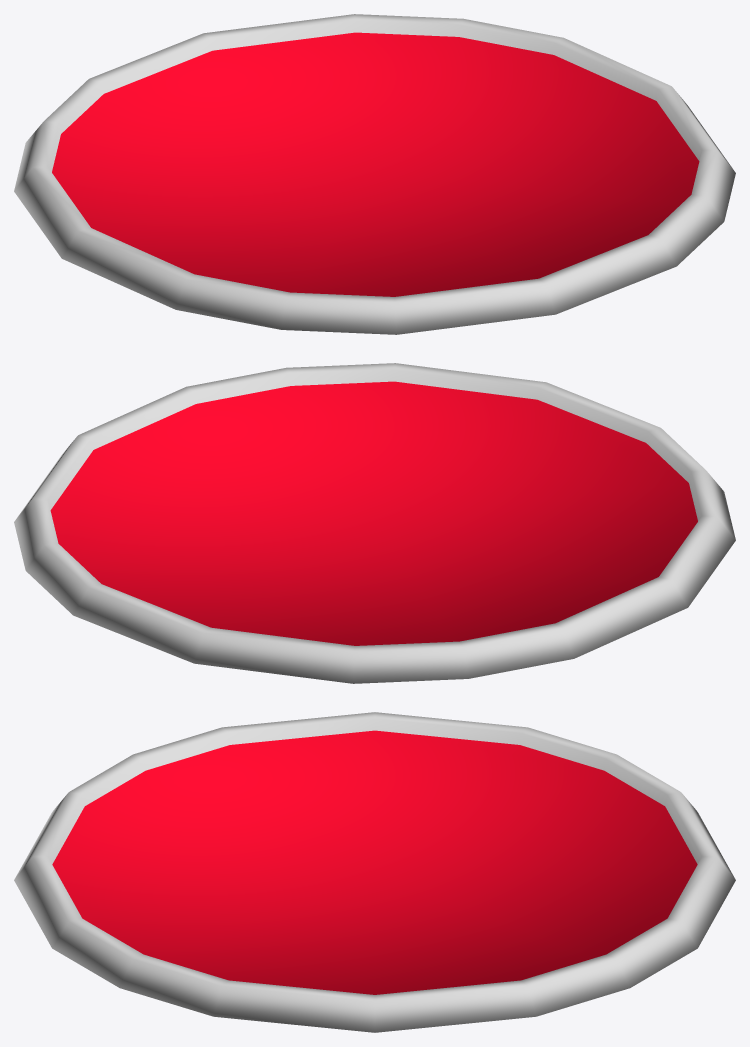
The model's file is Posavaso.fbx.
3 renders of one model, top to bottom at view 1: azimuth 30°, elevation 25°; view 2: azimuth 150°, elevation 25°; view 3: azimuth 270°, elevation 25°, orthographic.
Parts seen in each view (by area): view 1: Posavaso; view 2: Posavaso; view 3: Posavaso.
Part boxes in pixels (x1,y1,x2,y2): Posavaso: (14,14,735,334); Posavaso: (14,363,735,683); Posavaso: (14,712,735,1032).
Bounding box in the file's own units: 11.3 × 0.4059 × 11.3.
